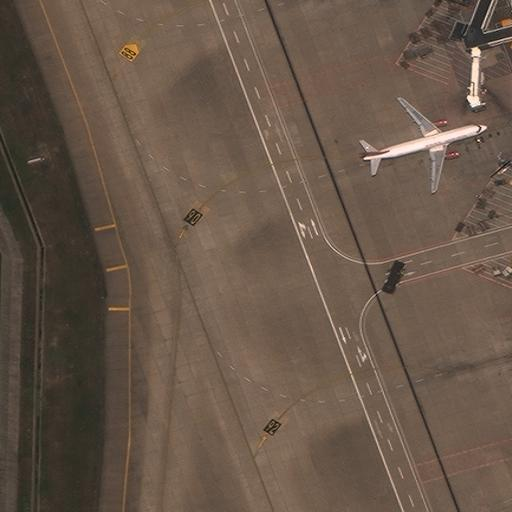Medium Civil Transport: (361, 96, 487, 189)
